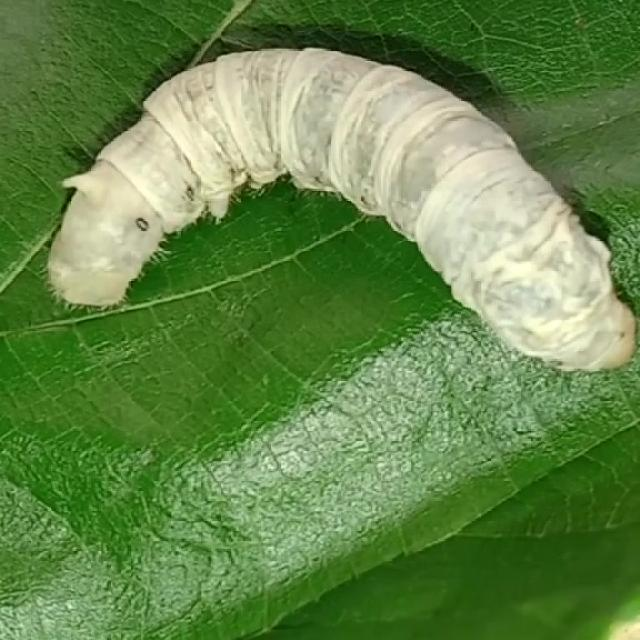Grasserie: (38, 31, 630, 405)
